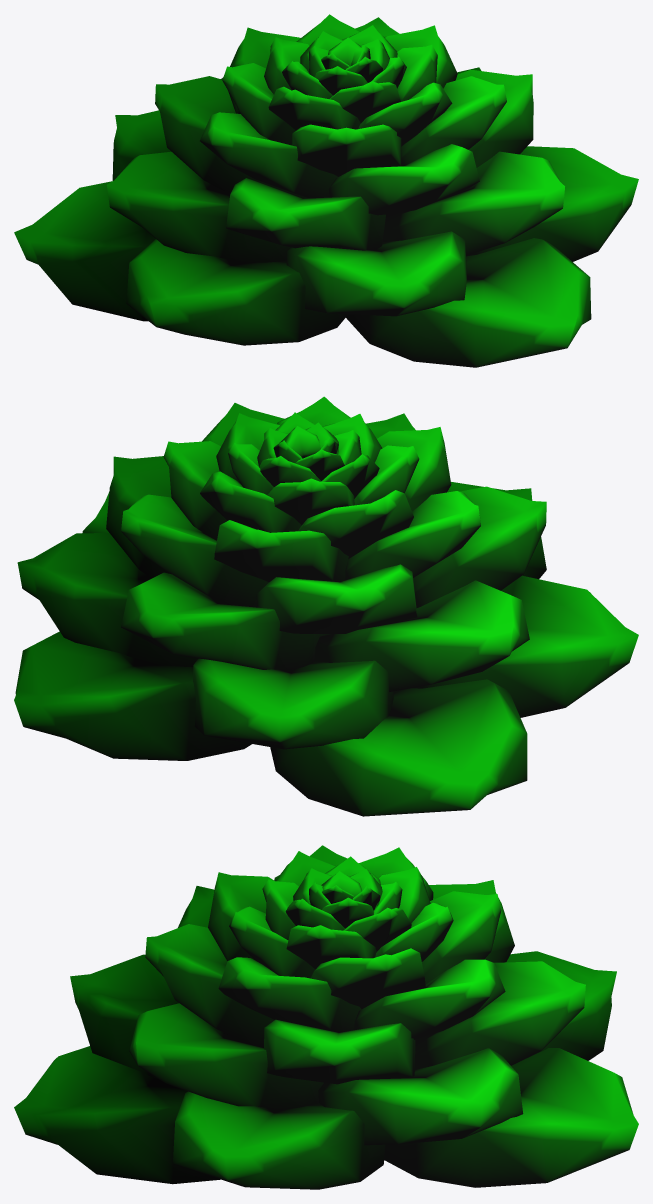
3 views of the same model, one above another, from view 1: azimuth 30°, elevation 25°; view 2: azimuth 150°, elevation 25°; view 3: azimuth 270°, elevation 25° (orthographic). The views are drawn at different scales.
Parts seen in each view (by area): view 1: 莲座植物.001; view 2: 莲座植物.001; view 3: 莲座植物.001.
Part boxes in pixels (x1,y1,x2,y2): 莲座植物.001: (14, 14, 638, 367); 莲座植物.001: (14, 396, 638, 816); 莲座植物.001: (14, 845, 638, 1189).
Size of the model in its own units: 0.1099 by 0.0538 by 0.1166.
